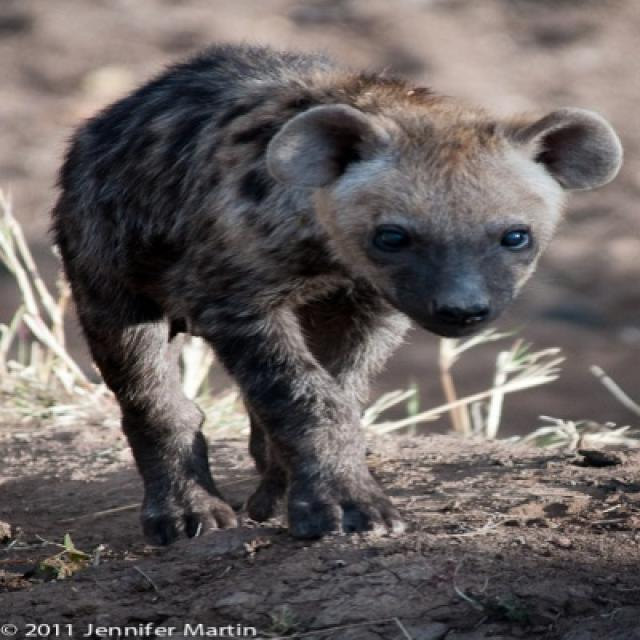hyena: (51, 43, 626, 550)
